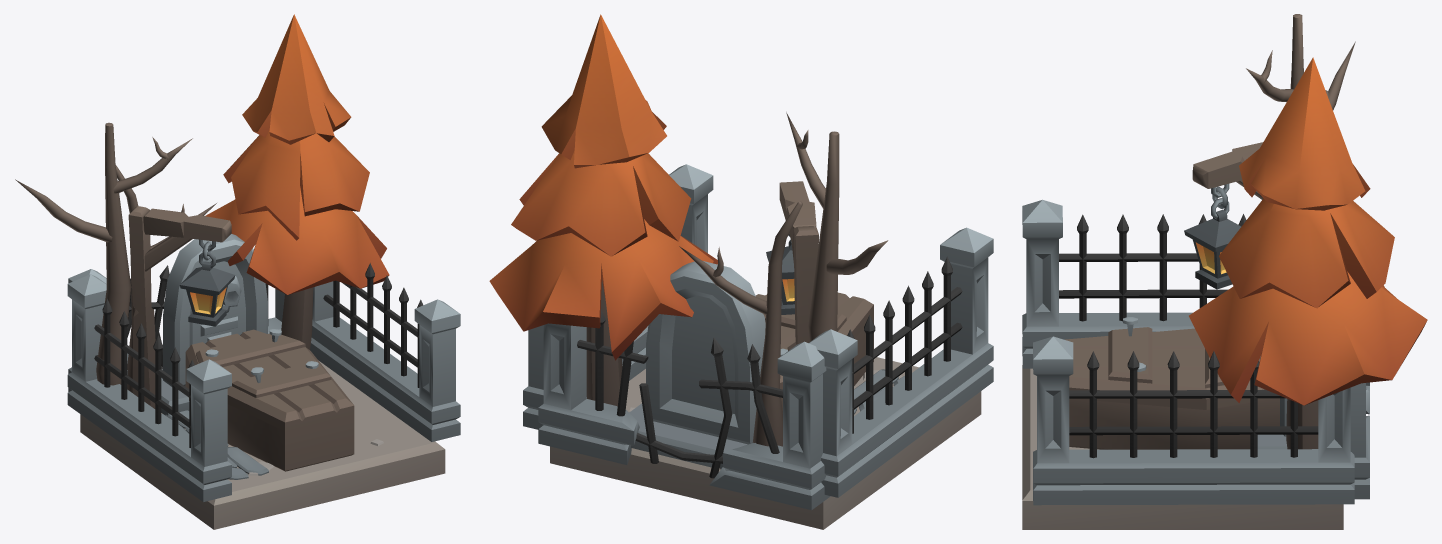
The model's file is Modelkes.glb.
3 views of the same model, side by side, from view 1: azimuth 30°, elevation 25°; view 2: azimuth 150°, elevation 25°; view 3: azimuth 270°, elevation 25° (orthographic). The views are drawn at different scales.
Parts seen in each view (by area): view 1: tree_pine_orange_small, fence.001, floor_dirt, fence, coffin_lid, grave_A, tree_dead_large, post_lantern, coffin, post_lantern_lantern, fence_broken, path_A (+1 smaller); view 2: tree_pine_orange_small, fence_broken, fence.001, grave_A, floor_dirt, tree_dead_large, tree_dead_medium, fence, post_lantern, coffin_lid, post_lantern_lantern; view 3: tree_pine_orange_small, fence, fence.001, floor_dirt, coffin_lid, coffin, post_lantern_lantern, fence_broken, tree_dead_large, post_lantern, grave_A.
Part boxes in pixels (x1,y1,x2,y2): tree_pine_orange_small: (205, 14, 389, 349); fence.001: (67, 274, 231, 501); floor_dirt: (80, 360, 445, 529); fence: (310, 263, 460, 441); coffin_lid: (185, 329, 354, 431); grave_A: (161, 234, 267, 415); tree_dead_large: (15, 122, 192, 385); post_lantern: (128, 206, 231, 408); coffin: (185, 361, 354, 471); post_lantern_lantern: (179, 239, 235, 326); fence_broken: (68, 265, 284, 391); path_A: (162, 410, 268, 479); tree_pine_orange_small: (489, 14, 717, 406); fence_broken: (538, 309, 830, 510); fence.001: (809, 227, 993, 497); grave_A: (629, 261, 765, 469); floor_dirt: (550, 357, 981, 529); tree_dead_large: (786, 112, 888, 341); tree_dead_medium: (679, 201, 802, 446); fence: (523, 164, 713, 429); post_lantern: (779, 181, 818, 350); coffin_lid: (755, 292, 873, 389); post_lantern_lantern: (766, 234, 794, 314); tree_pine_orange_small: (1189, 57, 1427, 449); fence: (1033, 336, 1354, 505); fence.001: (1022, 199, 1246, 368); floor_dirt: (1022, 365, 1343, 529); coffin_lid: (1065, 317, 1275, 409); coffin: (1069, 398, 1279, 449); post_lantern_lantern: (1184, 183, 1241, 289); fence_broken: (1350, 382, 1369, 499); tree_dead_large: (1246, 14, 1355, 110); post_lantern: (1192, 142, 1263, 199); grave_A: (1257, 398, 1287, 449).
Bounding box in the file's own units: 5.79 × 6.25 × 5.05.
12 materials, 12 textured.
